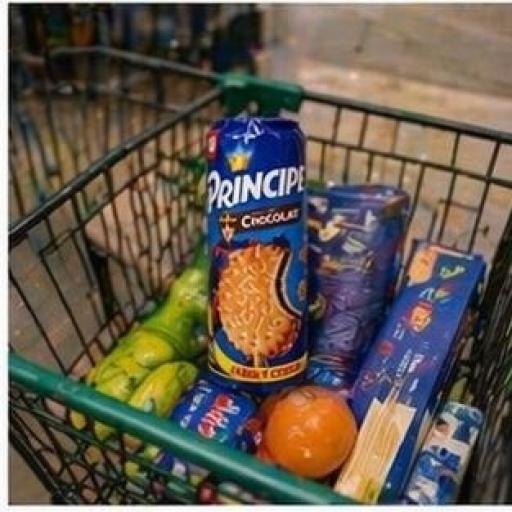prince: (147, 68, 443, 436)
